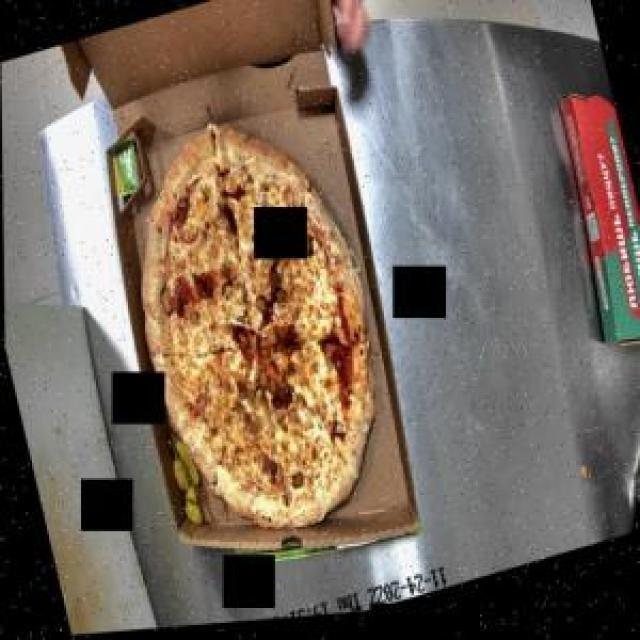Pizza: (88, 76, 414, 580)
